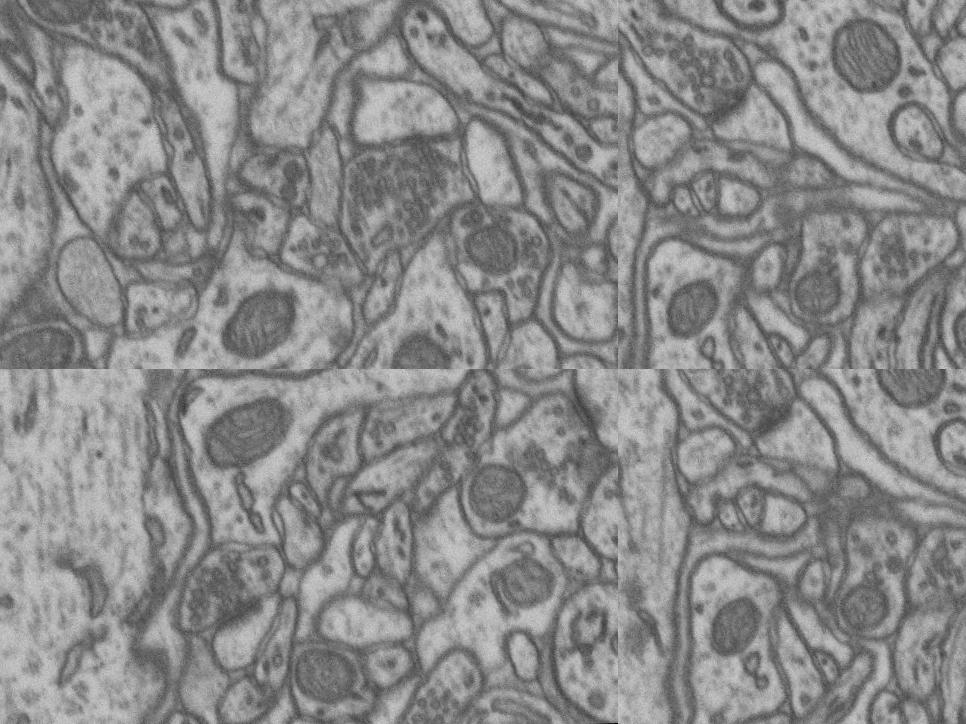mitochondria: (185, 390, 281, 489), (819, 4, 911, 106), (214, 282, 304, 369), (647, 268, 727, 361), (691, 584, 771, 677), (466, 443, 549, 520), (483, 540, 563, 616), (778, 258, 859, 322), (822, 574, 903, 638), (458, 214, 530, 284), (467, 686, 599, 724), (0, 312, 86, 369), (863, 369, 955, 422), (283, 633, 355, 699), (298, 415, 370, 474), (380, 320, 463, 369), (12, 0, 108, 38), (165, 652, 224, 710), (941, 283, 966, 369)
